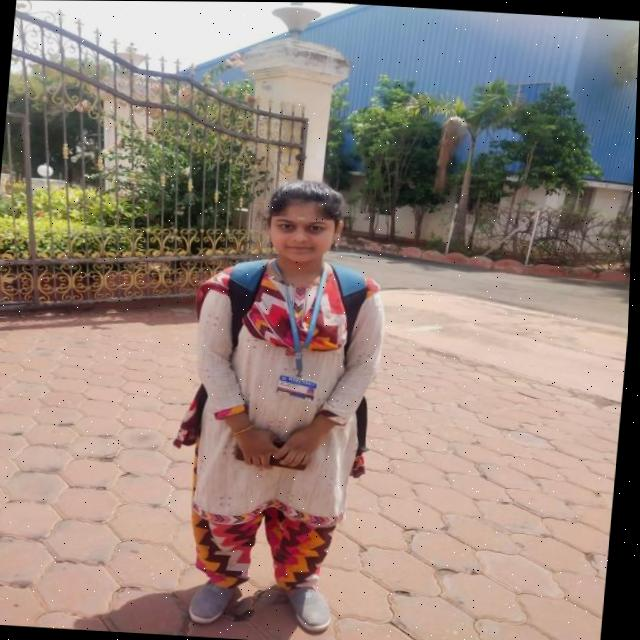id_card: (269, 259, 338, 403)
